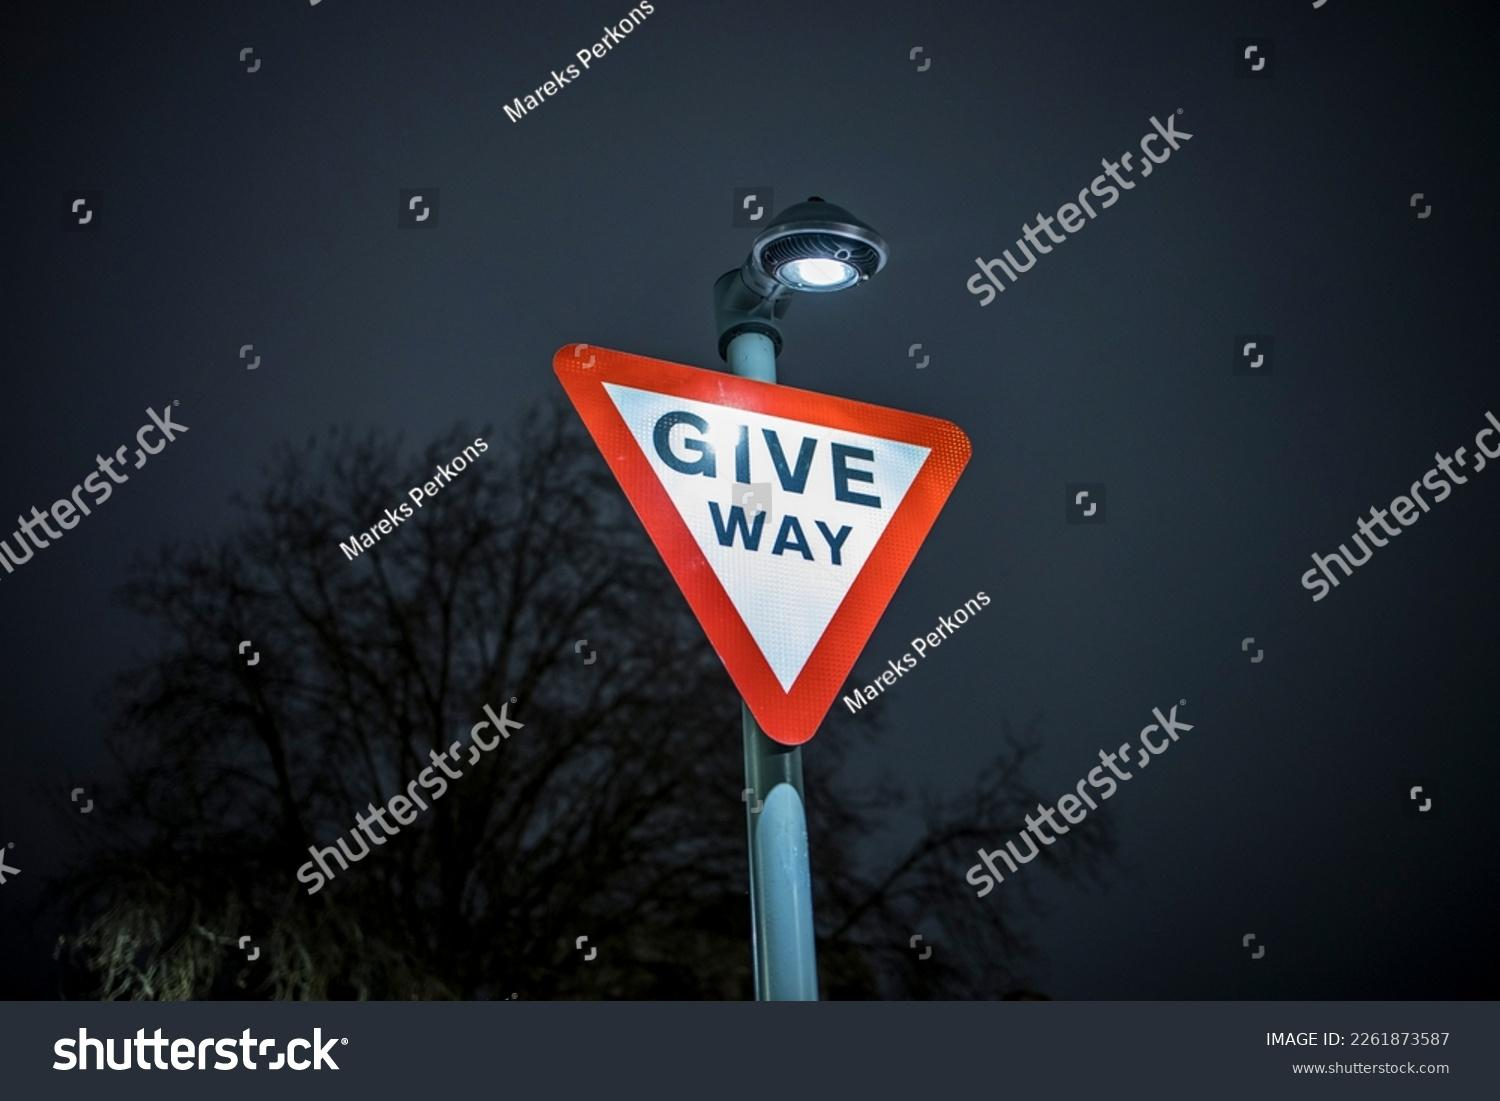Give Way: (558, 257, 991, 756)
